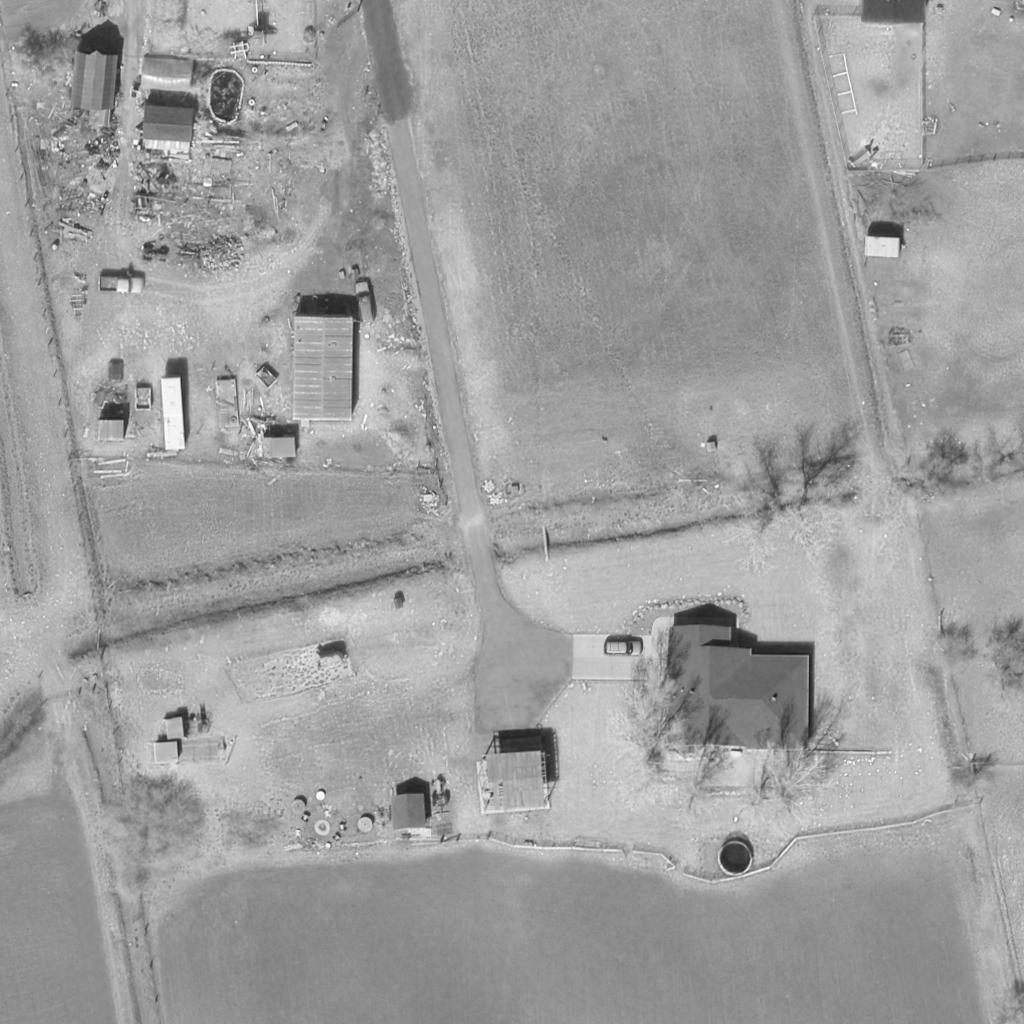vehicle: (160, 378, 186, 450), (354, 282, 376, 324), (98, 276, 146, 294), (602, 640, 644, 654)
